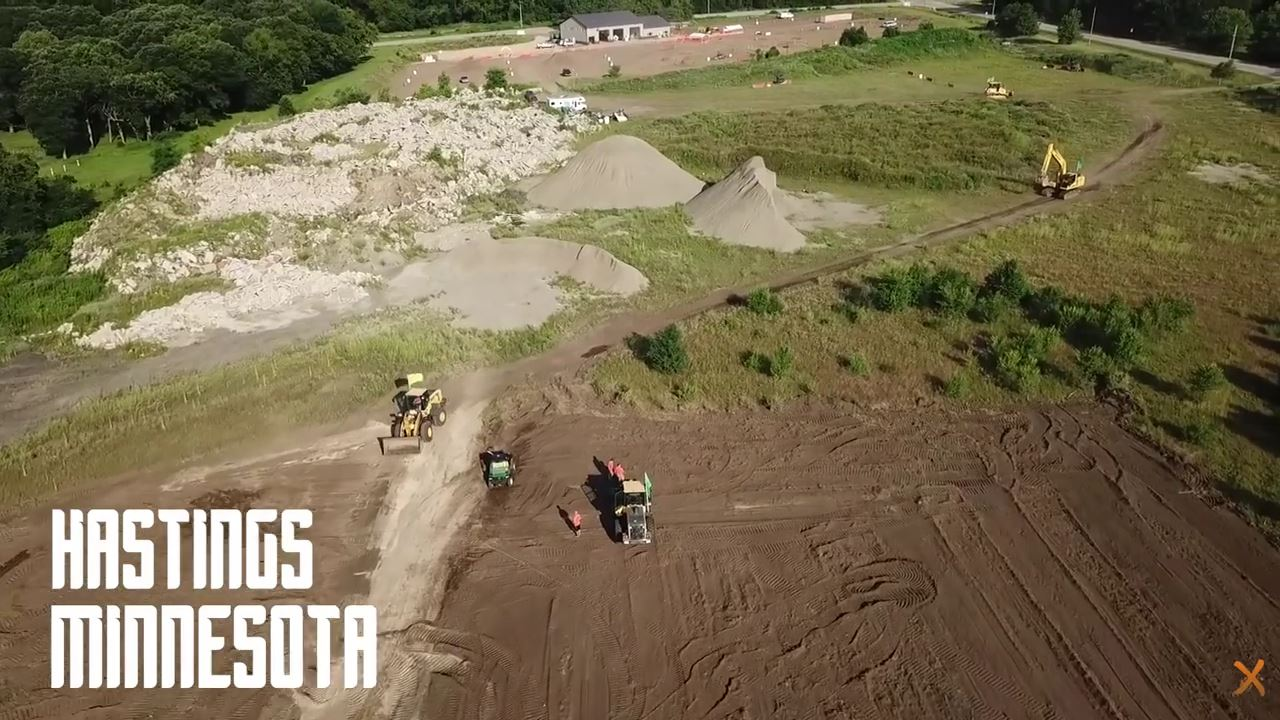con_eq: (379, 387, 449, 455), (1039, 138, 1083, 202), (612, 477, 653, 545), (478, 448, 513, 489), (983, 76, 1013, 104)
